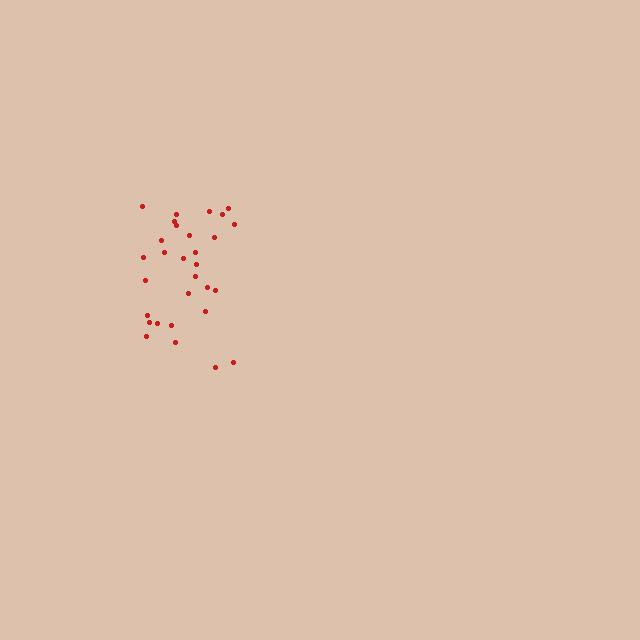abrasion: (142, 195, 238, 370)
